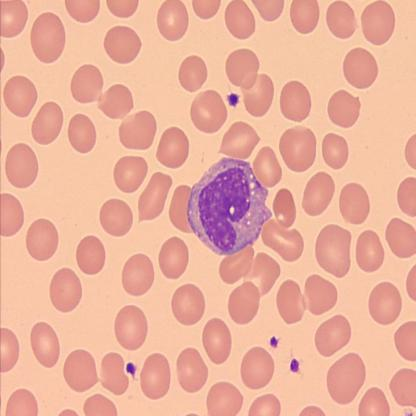Monocyte: (186, 154, 274, 258)
